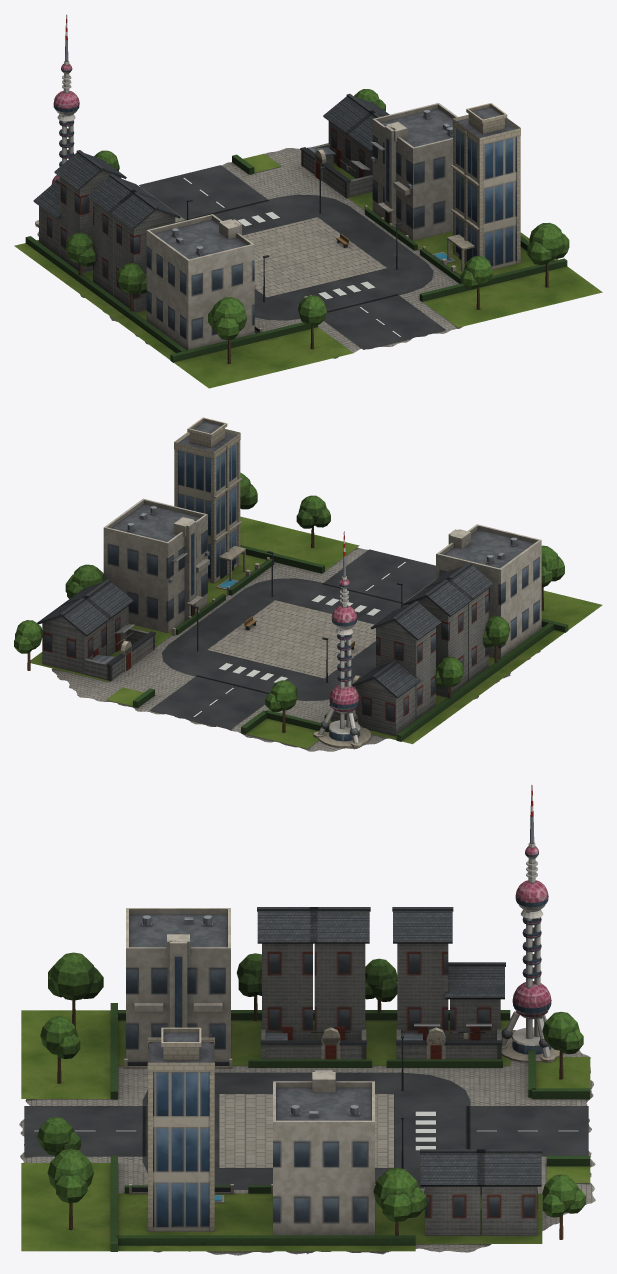
Rendered from modern-town-small-a-sinic.glb.
3 renders of one model, top to bottom at view 1: azimuth 30°, elevation 25°; view 2: azimuth 150°, elevation 25°; view 3: azimuth 270°, elevation 25°, orthographic. The views are drawn at different scales.
Parts seen in each view (by area): view 1: LOD0; view 2: LOD0; view 3: LOD0.
Boxes of the visible parts, box(x1,y1,x2,y2) form: LOD0: box(14, 14, 602, 388); LOD0: box(14, 417, 602, 751); LOD0: box(19, 784, 595, 1255).
Size of what is drawn, in the model's own units: 4.02 by 2.03 by 4.05.
Materials: 3 (3 with a texture image).
